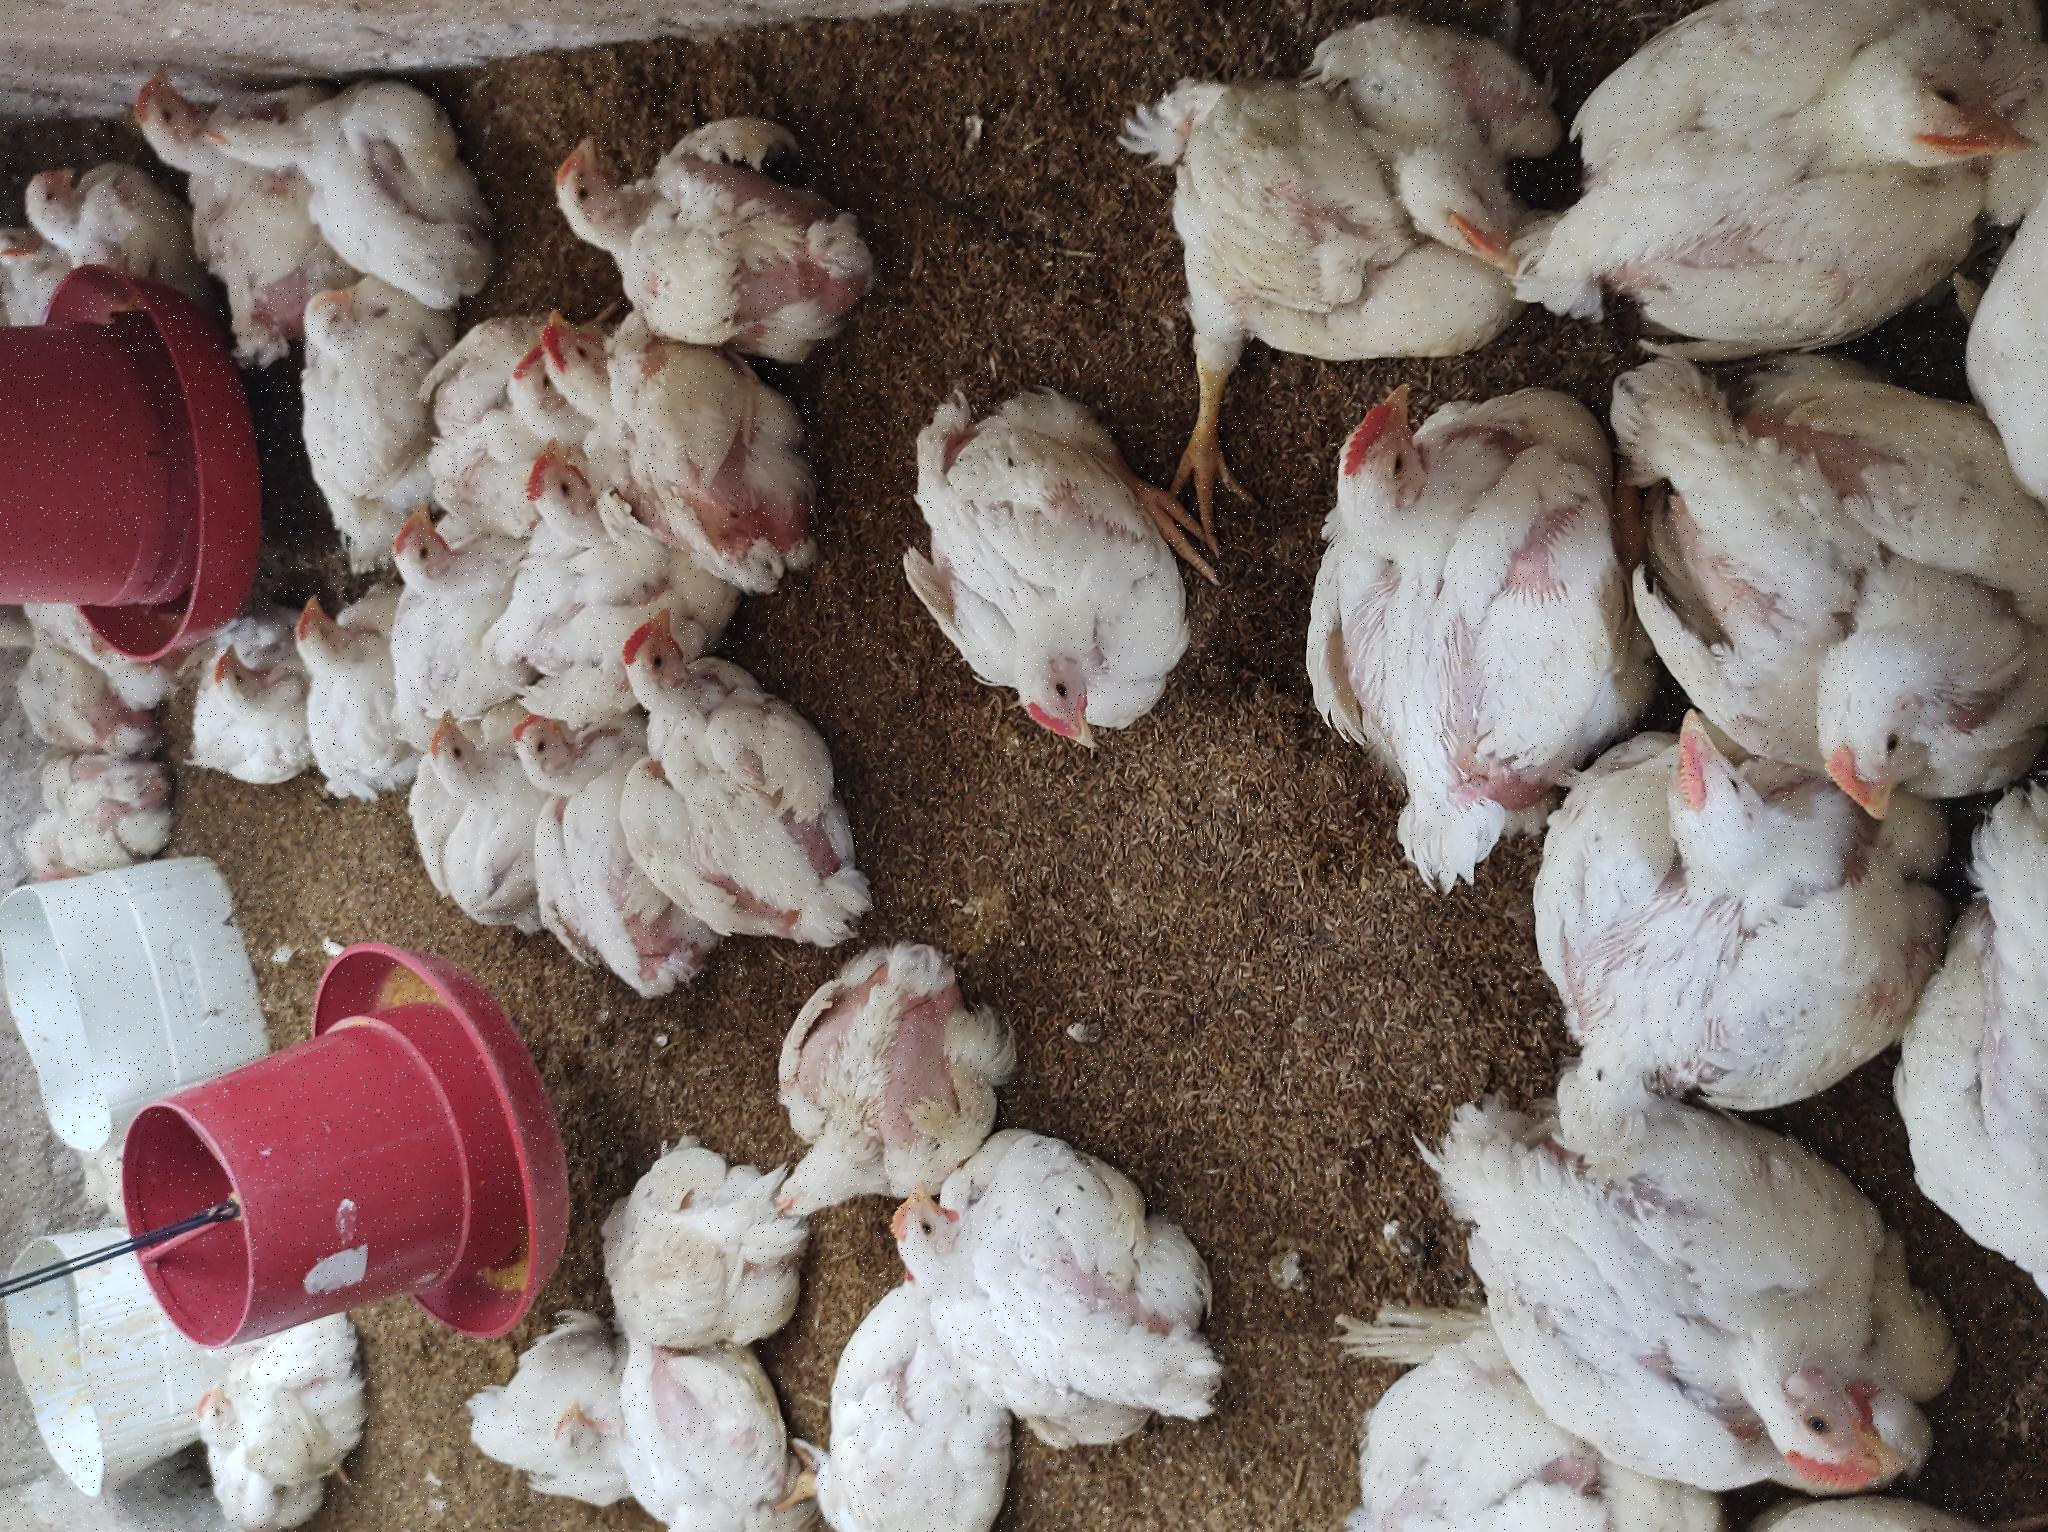Pollos: (1171, 1155, 1503, 1532), (780, 917, 1129, 1218), (735, 1303, 1152, 1532), (129, 887, 396, 1209), (594, 626, 920, 858), (1208, 546, 1429, 872), (299, 764, 590, 1003), (1244, 204, 1454, 512), (2, 763, 253, 1017), (558, 500, 832, 686), (957, 618, 1195, 806), (27, 174, 228, 377), (199, 591, 380, 797), (11, 451, 204, 629), (2, 628, 187, 771), (743, 286, 962, 402), (634, 412, 827, 534), (882, 373, 1059, 500), (1102, 285, 1269, 418), (1351, 109, 1487, 249), (1265, 13, 1380, 171), (650, 14, 772, 161), (750, 200, 894, 311), (1117, 509, 1231, 628), (988, 520, 1097, 618), (1216, 2, 1319, 69), (1125, 488, 1181, 557)
